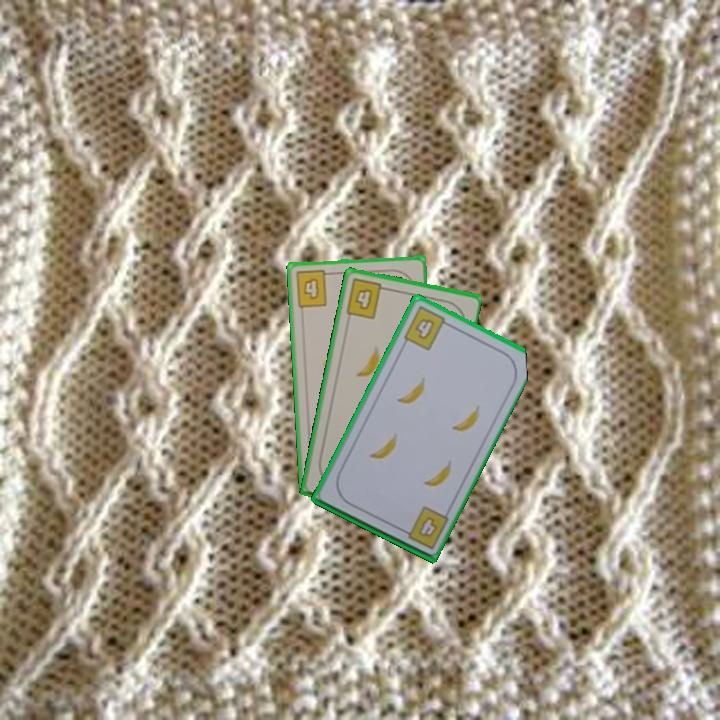4b: (400, 302, 453, 353), (396, 503, 451, 552), (342, 275, 391, 322), (292, 267, 336, 310)
